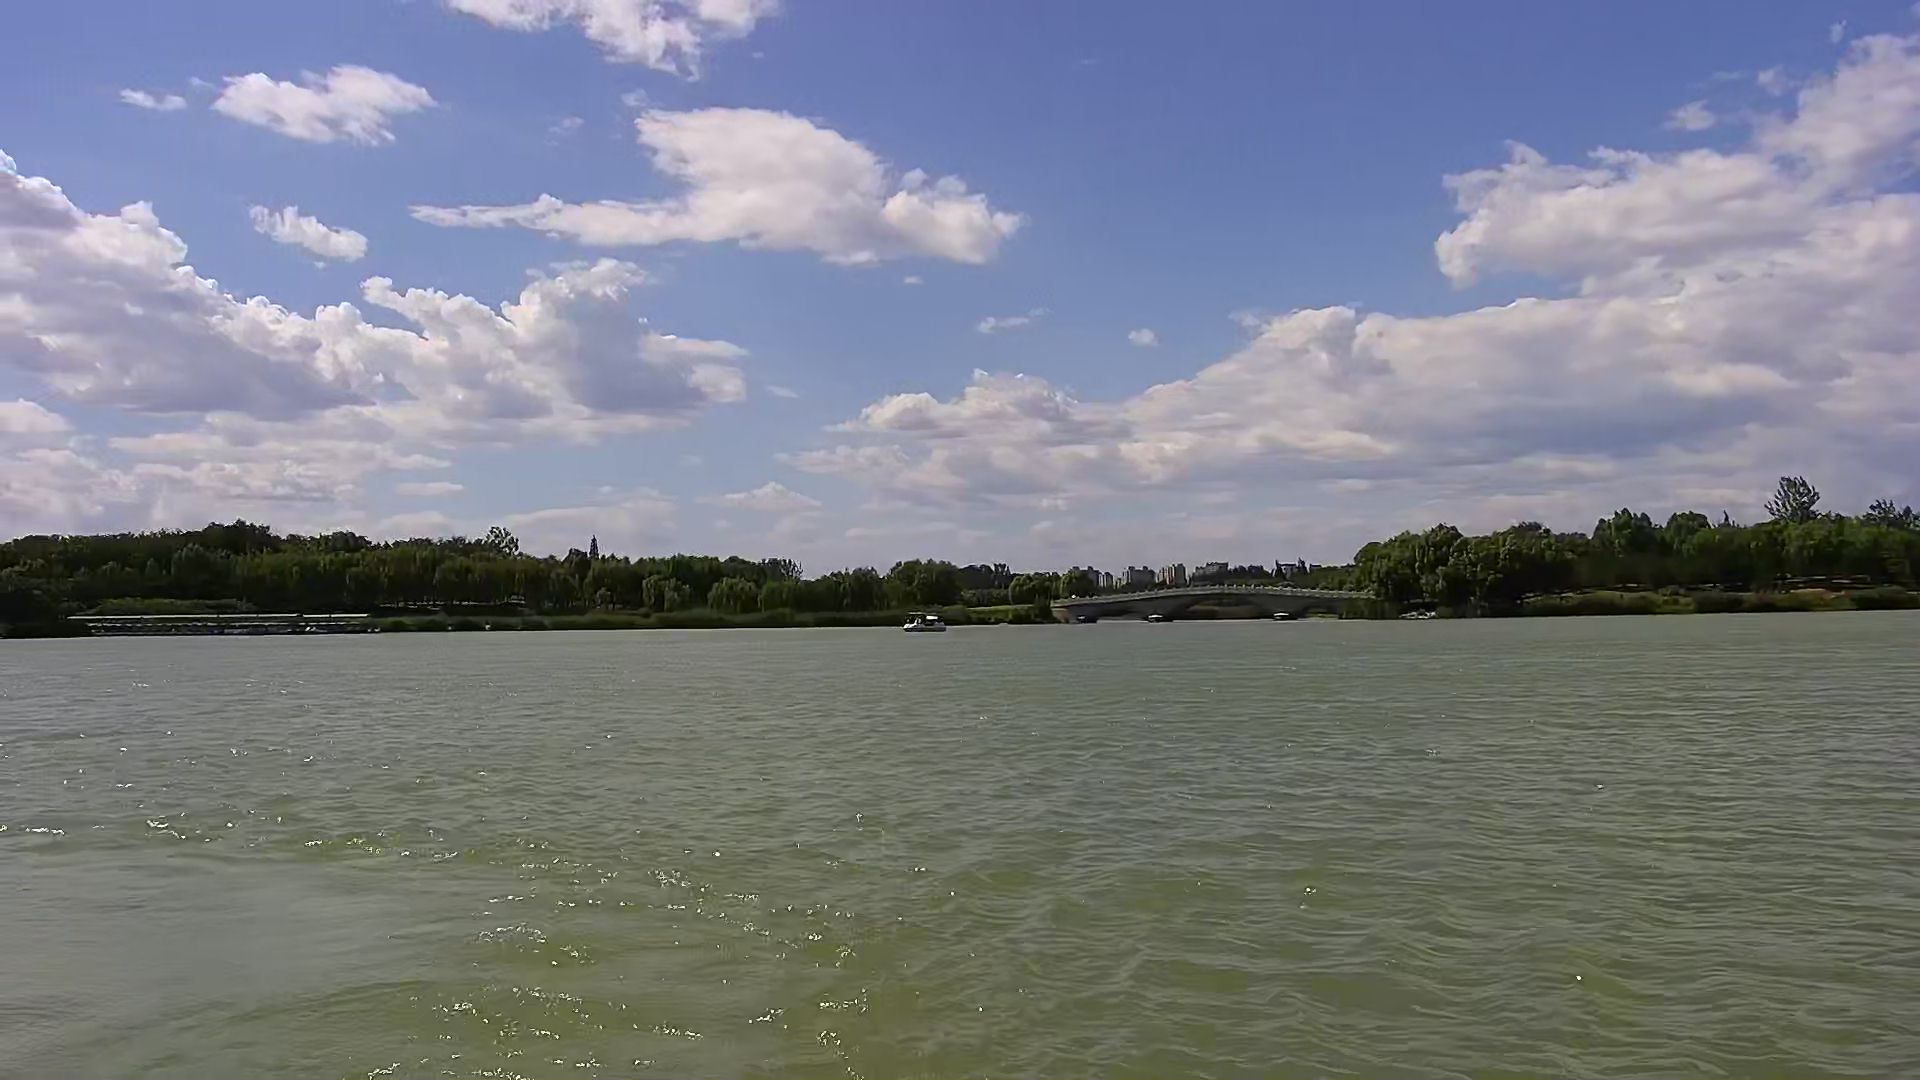boat: (907, 608, 949, 636)
bridge: (1052, 585, 1382, 622), (69, 612, 371, 634)
